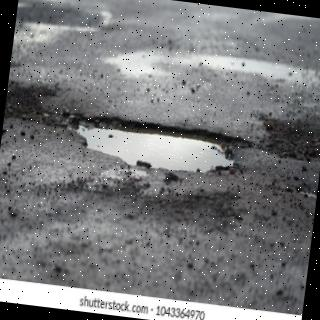pothole: (69, 115, 251, 172)
